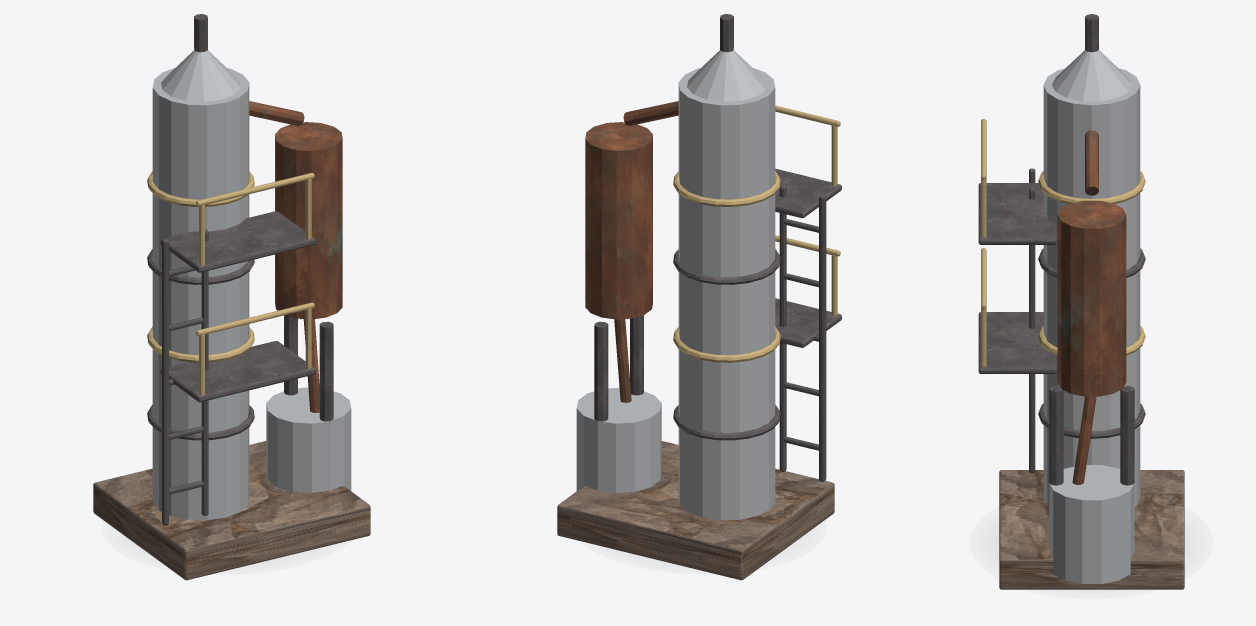
Rendered from distillation-tower.glb.
3 renders of one model, left to right at view 1: azimuth 30°, elevation 25°; view 2: azimuth 150°, elevation 25°; view 3: azimuth 270°, elevation 25°, orthographic.
Visible parts, largest first — view 1: column, base, condenser, tank, platform.001, platform, cap, ladderRail, ladderRail.001, condLeg2, trayRing.001, trayRing.002 (+7 smaller); view 2: column, base, condenser, tank, cap, ladderRail, platform.001, ladderRail.001, platform, condLeg, condLeg2, trayRing (+5 smaller); view 3: column, condenser, base, tank, platform.001, platform, cap, condLeg, condLeg2, ladderRail.001, outPipe, vapPipe (+5 smaller).
Boxes of the visible parts, x1,y1,x2,y2 form: column: (152,67,249,520); base: (93,441,370,580); condenser: (275,122,342,319); tank: (266,387,351,492); platform.001: (160,211,315,272); platform: (160,341,315,402); cap: (161,50,240,101); ladderRail: (162,239,168,525); ladderRail.001: (201,229,208,515); condLeg2: (319,321,333,421); trayRing.001: (147,327,254,362); trayRing.002: (147,249,254,284); column: (678,67,775,520); base: (557,441,834,580); condenser: (585,122,652,319); tank: (576,387,661,492); cap: (687,50,766,101); ladderRail: (819,195,826,481); platform.001: (775,168,841,218); ladderRail.001: (779,185,786,471); platform: (775,298,841,347); condLeg: (594,321,608,421); condLeg2: (630,315,643,395); trayRing: (673,404,780,440); column: (1043,68,1140,506); condenser: (1057,200,1126,396); base: (999,470,1184,589); tank: (1049,465,1134,583); platform.001: (978,183,1056,244); platform: (978,312,1056,373); cap: (1052,50,1131,101); condLeg: (1120,386,1134,485); condLeg2: (1049,386,1063,485); ladderRail.001: (1029,188,1035,472); outPipe: (1072,396,1096,484); vapPipe: (1085,130,1098,195).
Bounding box in the file's own units: 2.3 × 3.97 × 2.1.
8 materials, 5 textured.
